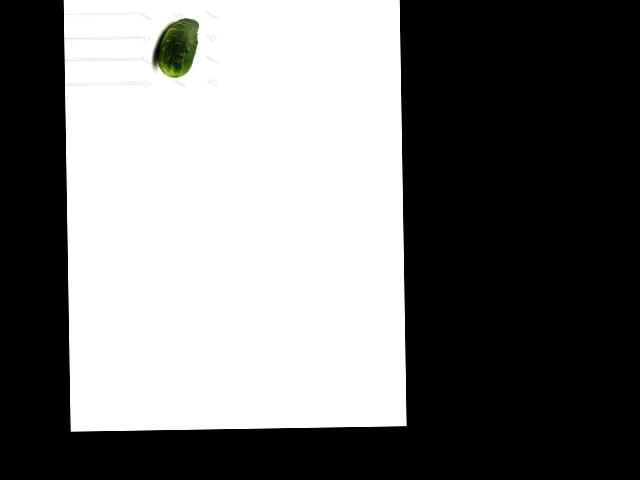cucumber: (157, 18, 199, 78)
